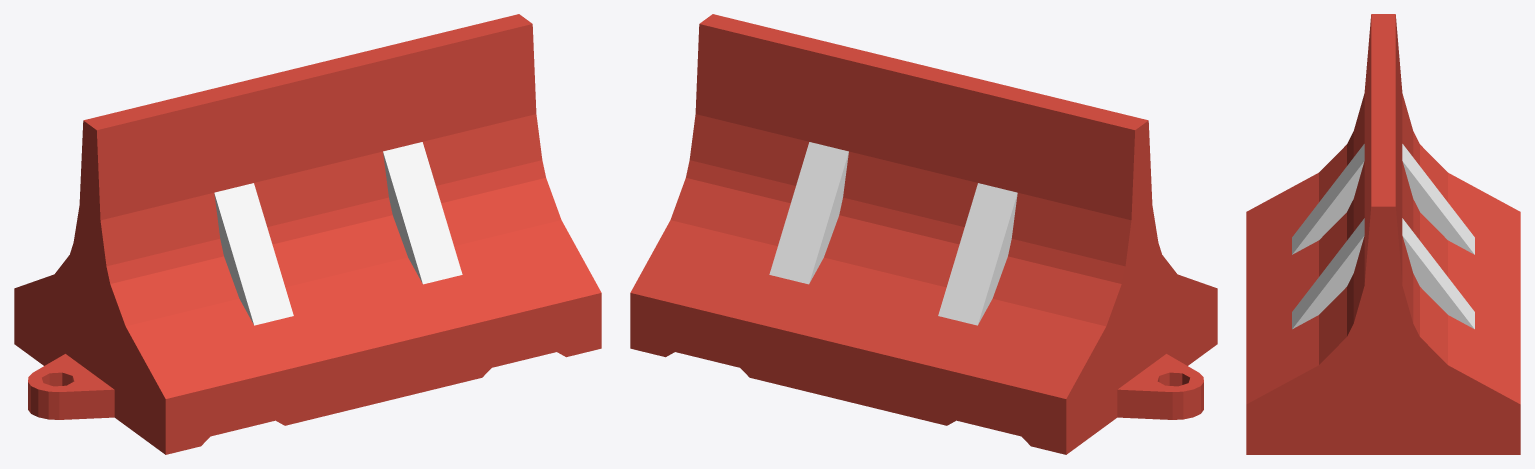
The model's file is Stop_Barrier.fbx.
3 views of the same model, side by side, from view 1: azimuth 30°, elevation 25°; view 2: azimuth 150°, elevation 25°; view 3: azimuth 270°, elevation 25° (orthographic). The views are drawn at different scales.
Visible parts, largest first — view 1: Stop_Barrier; view 2: Stop_Barrier; view 3: Stop_Barrier.
Part boxes in pixels (box(x1,y1,x2,y2)): Stop_Barrier: box(14, 14, 601, 454); Stop_Barrier: box(630, 14, 1217, 454); Stop_Barrier: box(1246, 14, 1520, 454).
Size of the model in its own units: 94.39 by 50 by 50.
